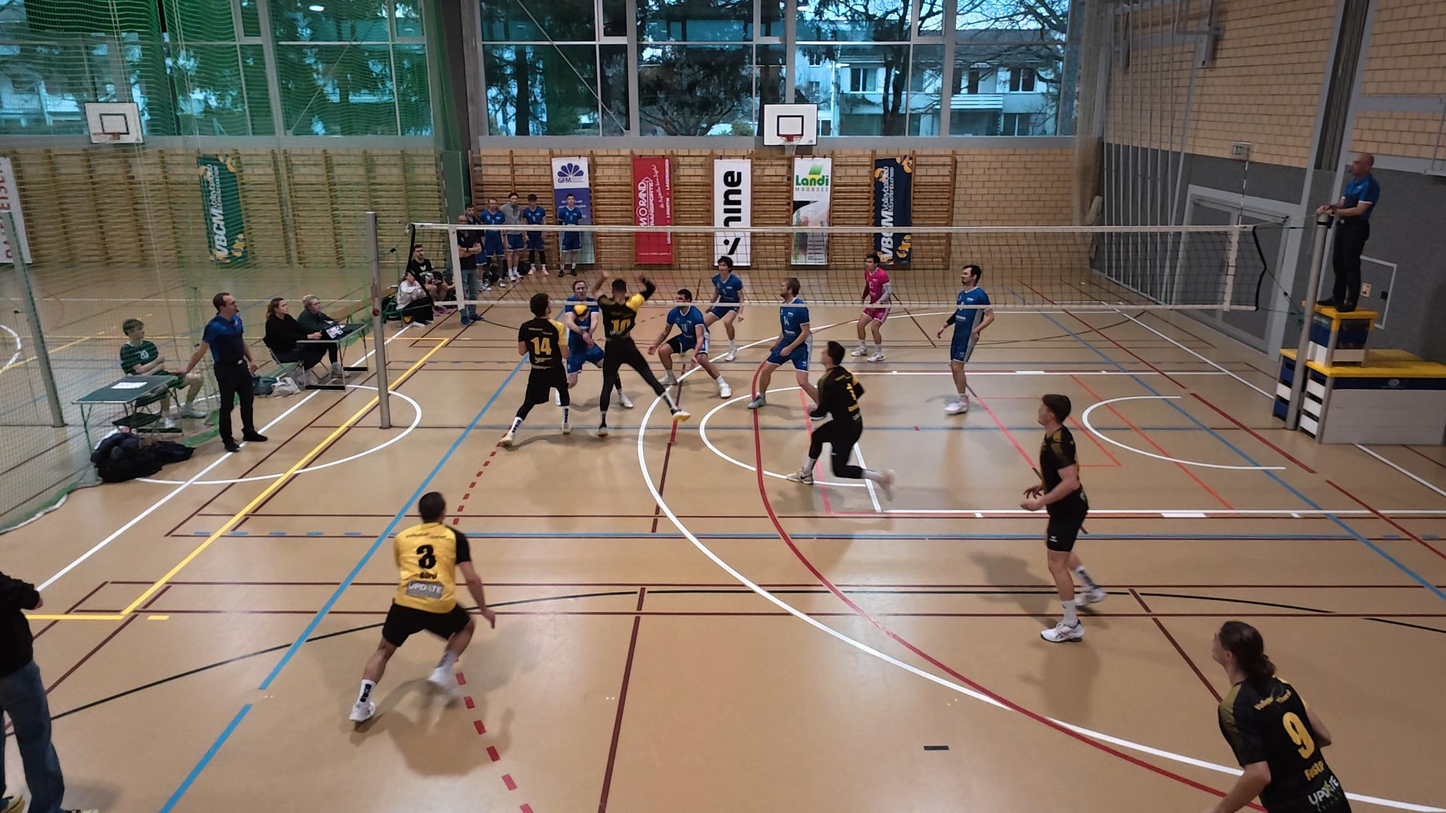Dig: (546, 277, 640, 414)
Player: (349, 491, 495, 723), (1209, 622, 1353, 813), (1022, 393, 1104, 641), (792, 340, 894, 491), (498, 294, 580, 447), (653, 283, 732, 406), (746, 277, 818, 411), (564, 277, 635, 411), (937, 266, 994, 415), (854, 252, 894, 363), (705, 259, 745, 363)
ball: (572, 296, 596, 315)
